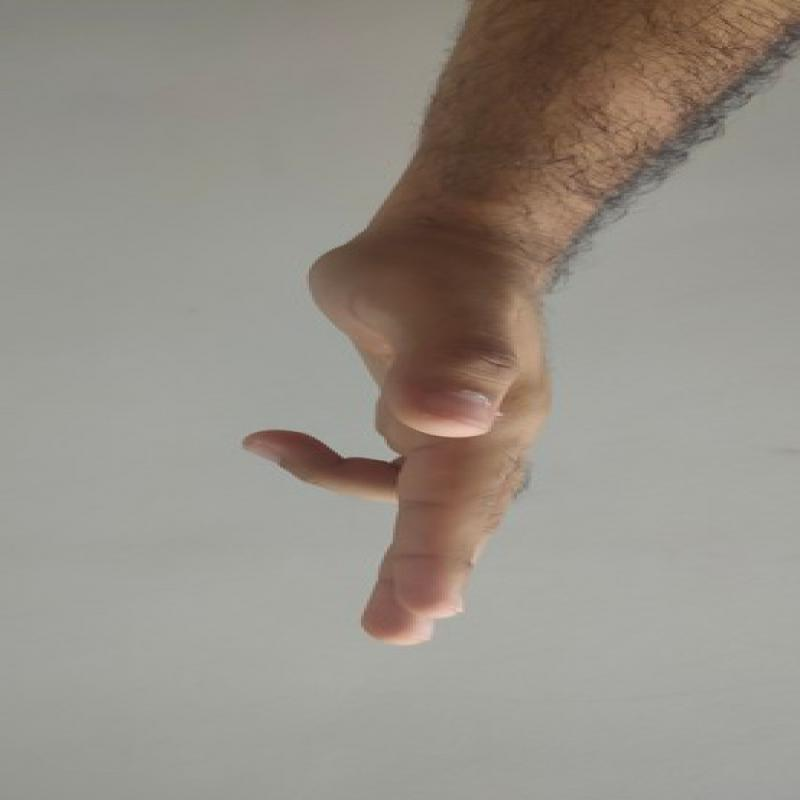Pathaaka: (223, 230, 600, 663)
